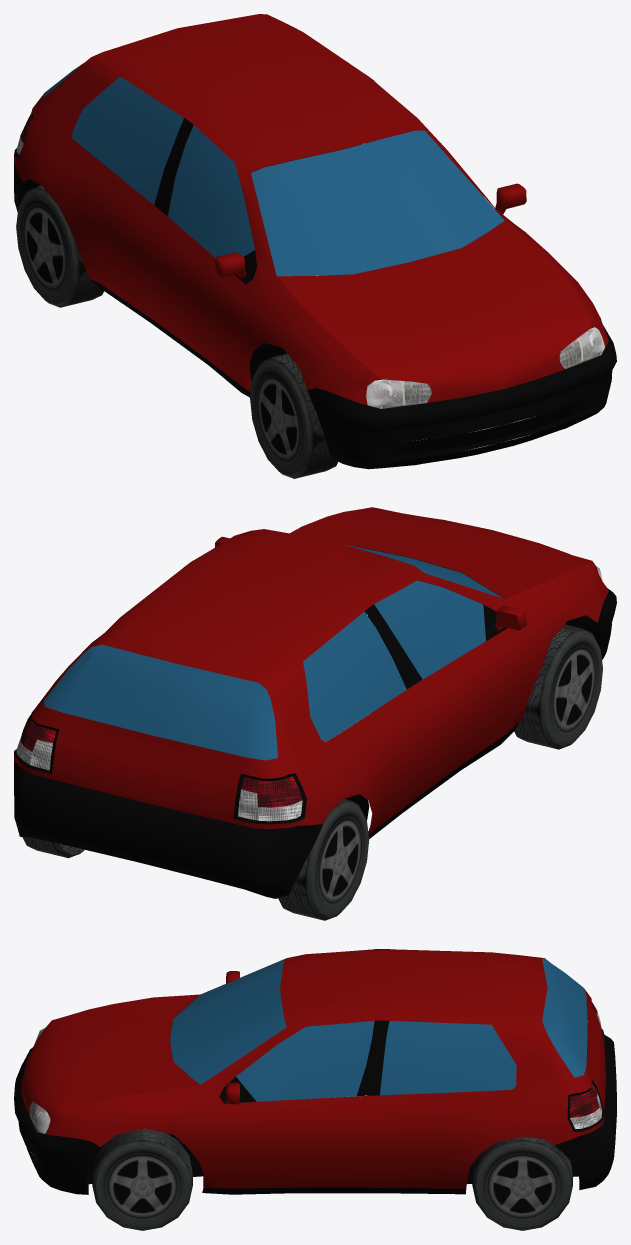
The model's file is car_01.fbx.
3 renders of one model, top to bottom at view 1: azimuth 30°, elevation 25°; view 2: azimuth 150°, elevation 25°; view 3: azimuth 270°, elevation 25°, orthographic. The views are drawn at different scales.
Visible parts, largest first — view 1: car_lowpoly; view 2: car_lowpoly; view 3: car_lowpoly.
Boxes of the visible parts, x1,y1,x2,y2 form: car_lowpoly: (14, 14, 616, 478); car_lowpoly: (14, 507, 616, 920); car_lowpoly: (14, 949, 616, 1230).
Size of the model in its own units: 2828 by 2114 by 5912.
